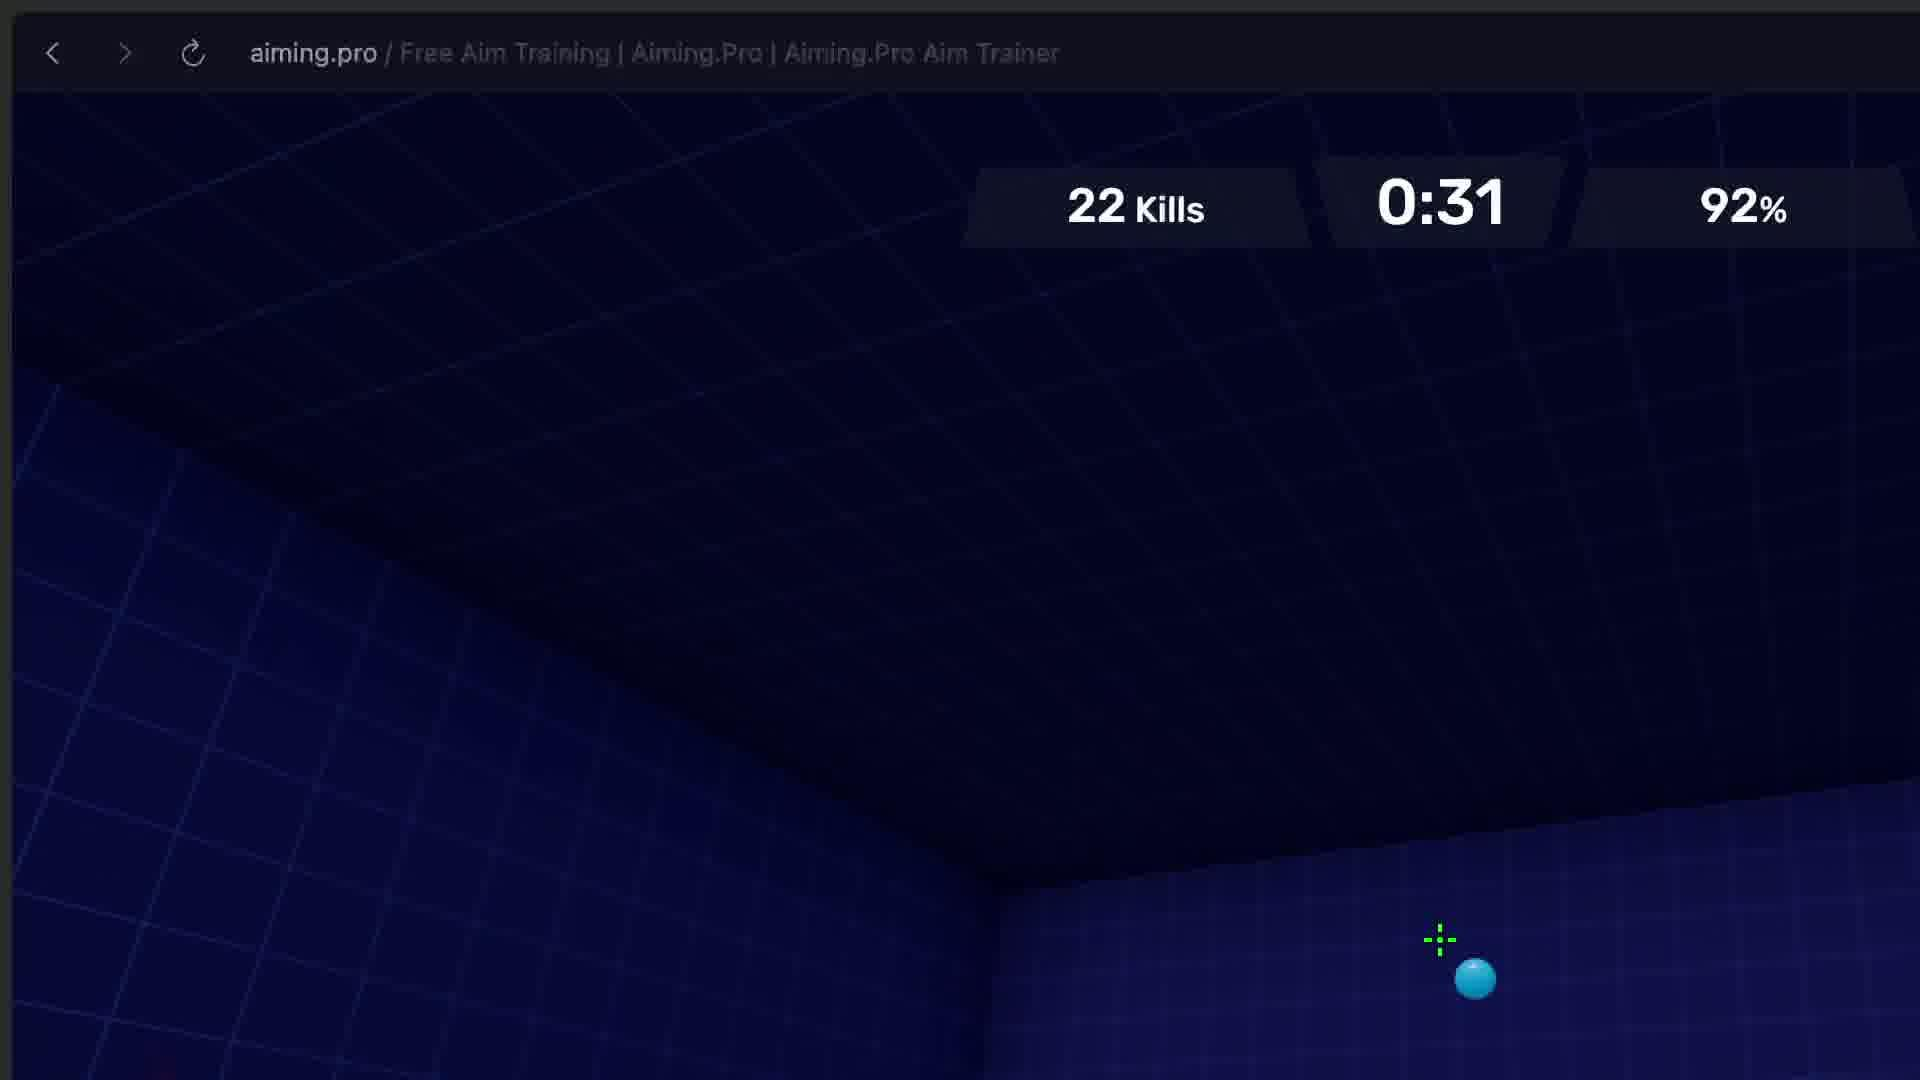target: (1455, 957, 1495, 1000)
